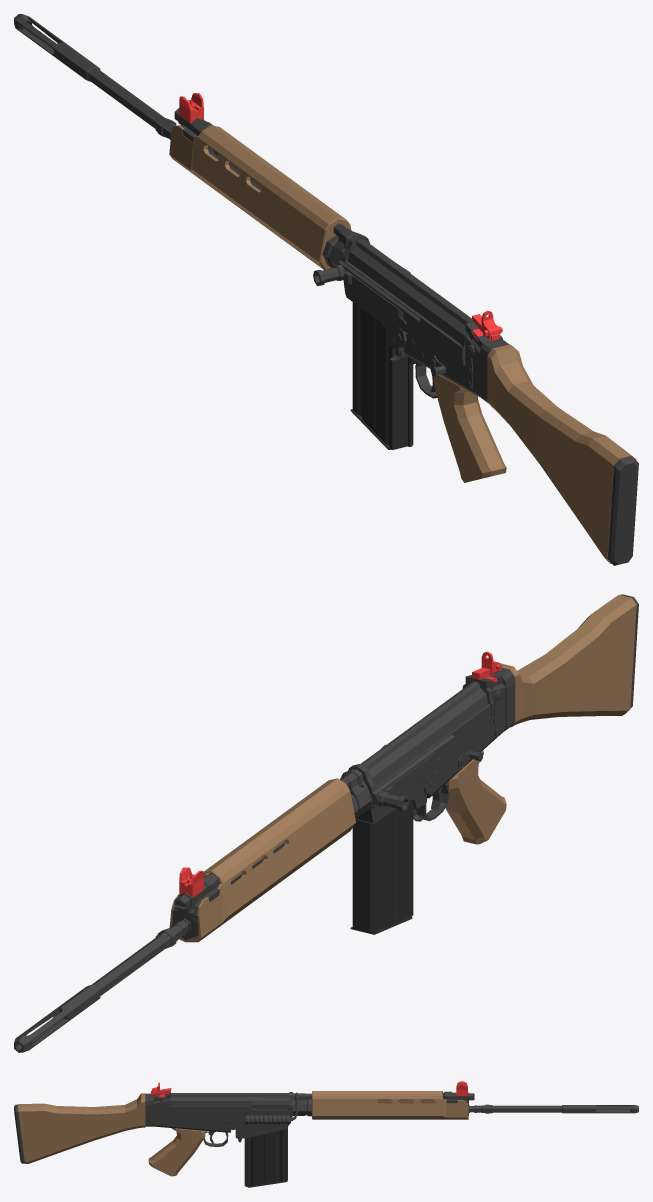
File: fusil_11.glb
The picture shows the model from 3 angles, top to bottom: view 1: azimuth 30°, elevation 25°; view 2: azimuth 150°, elevation 25°; view 3: azimuth 270°, elevation 25°; orthographic projection. The views are drawn at different scales.
Visible parts, largest first — view 1: p52_accent, p4_accent, p54_mag, p38_accent, p20_paint, p53_paint, p31_paint, p1_paint, p0_paint, p13_paint, p16_paint, p10_paint; view 2: p52_accent, p4_accent, p54_mag, p20_paint, p38_accent, p31_paint, p1_paint, p0_paint, p13_paint, p10_paint, p16_paint, p2_paint (+1 smaller); view 3: p52_accent, p4_accent, p54_mag, p38_accent, p31_paint, p20_paint, p13_paint, p1_paint, p0_paint, p16_paint, p21_paint, p19_paint (+5 smaller).
Boxes of the visible parts, x1,y1,x2,y2 form: p52_accent: (487,344,636,563); p4_accent: (169,120,351,269); p54_mag: (350,302,413,449); p38_accent: (434,374,506,482); p20_paint: (348,239,473,343); p53_paint: (607,456,638,565); p31_paint: (404,322,502,397); p1_paint: (88,68,261,190); p0_paint: (14,14,100,81); p13_paint: (341,260,465,365); p16_paint: (343,280,404,351); p10_paint: (322,228,369,267); p52_accent: (499,594,636,727); p4_accent: (169,778,355,942); p54_mag: (350,799,413,934); p20_paint: (361,681,488,786); p38_accent: (445,750,506,844); p31_paint: (427,674,505,798); p1_paint: (92,842,285,995); p0_paint: (14,984,100,1052); p13_paint: (368,684,494,809); p10_paint: (340,764,375,818); p16_paint: (355,776,426,824); p2_paint: (174,778,349,912); p52_accent: (18,1093,145,1163); p4_accent: (312,1091,468,1119); p54_mag: (244,1127,287,1187); p38_accent: (148,1128,205,1176); p31_paint: (153,1093,231,1132); p20_paint: (171,1093,289,1106); p13_paint: (168,1097,292,1120); p1_paint: (469,1104,561,1113); p0_paint: (562,1105,638,1113); p16_paint: (235,1116,292,1138); p21_paint: (250,1097,289,1109); p19_paint: (245,1115,289,1124).
Size of the model in its own units: 0.0782 by 0.1968 by 1.09.
